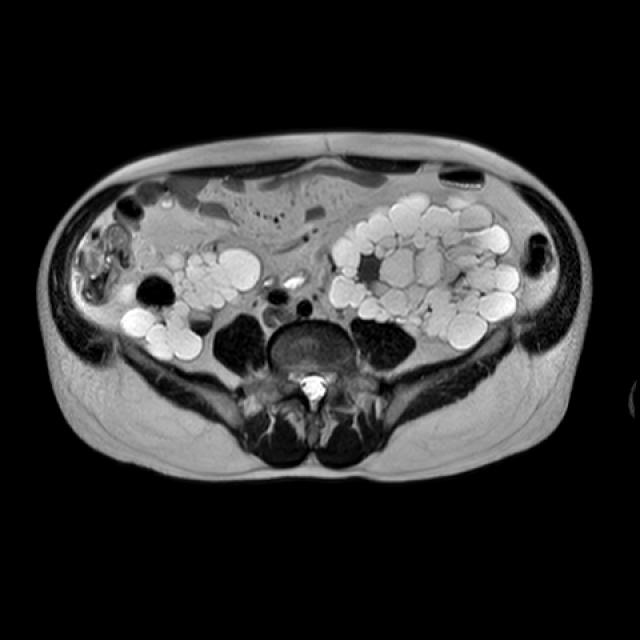sag: (114, 244, 265, 363)
sol: (328, 191, 523, 350)
